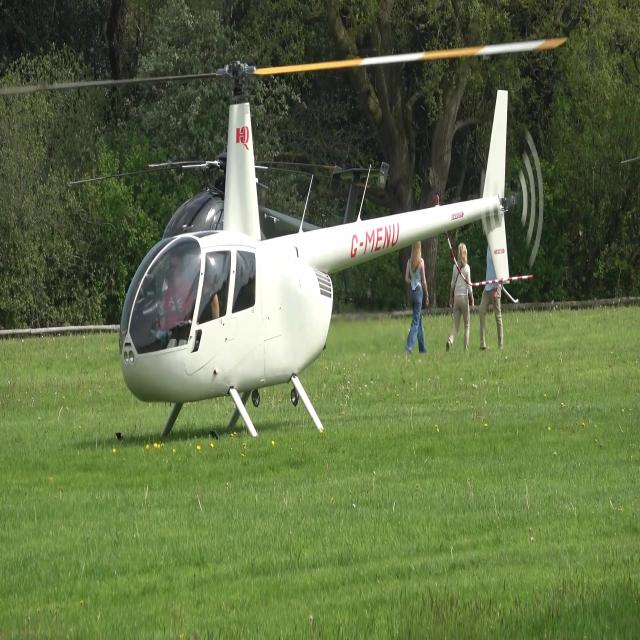CIV_HELO: (118, 59, 514, 451)
